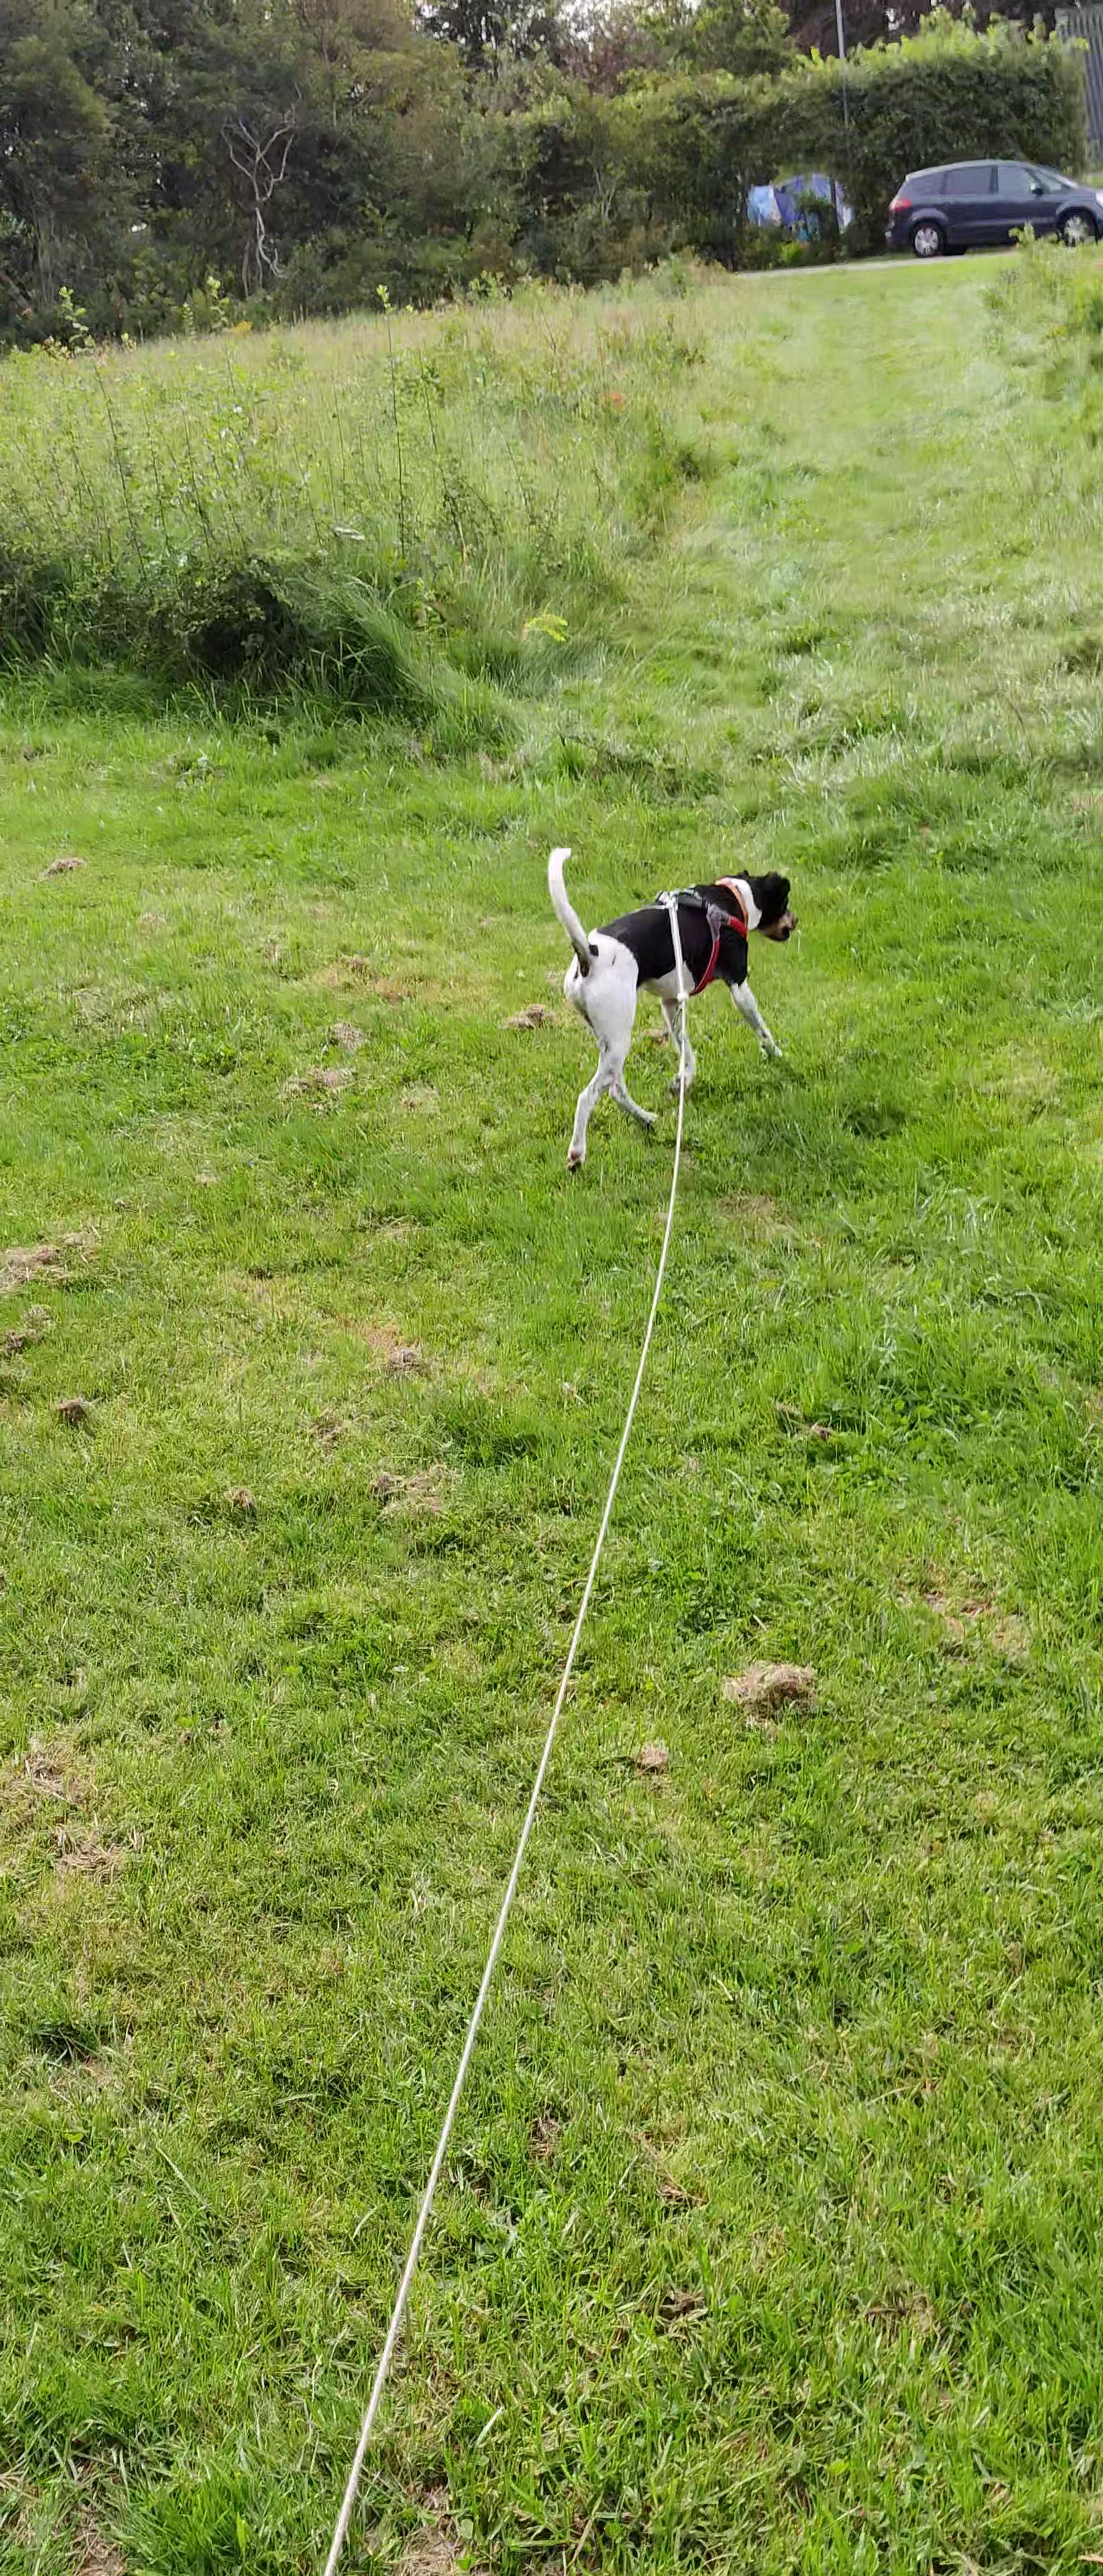Dog: (533, 830, 807, 1180)
